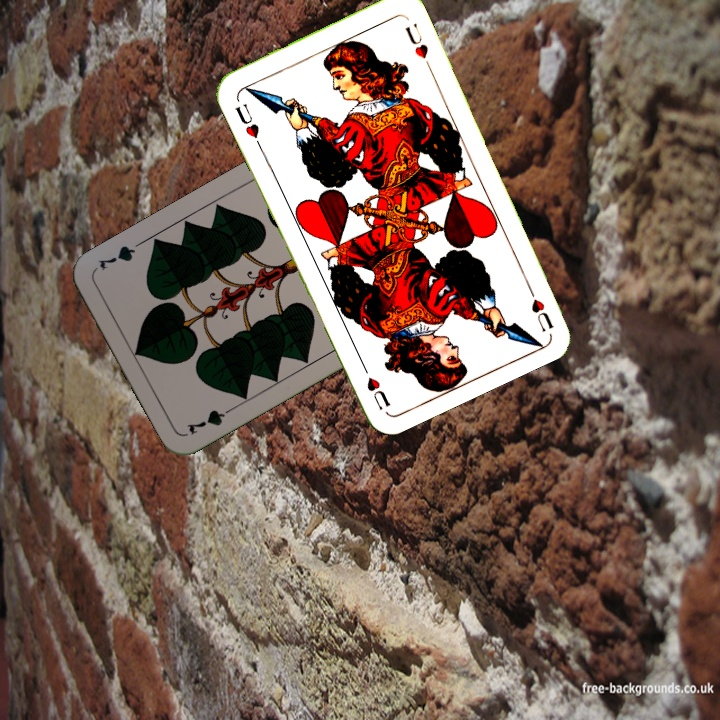G7: (182, 401, 239, 437)
HU: (522, 278, 556, 335), (230, 99, 264, 150)
